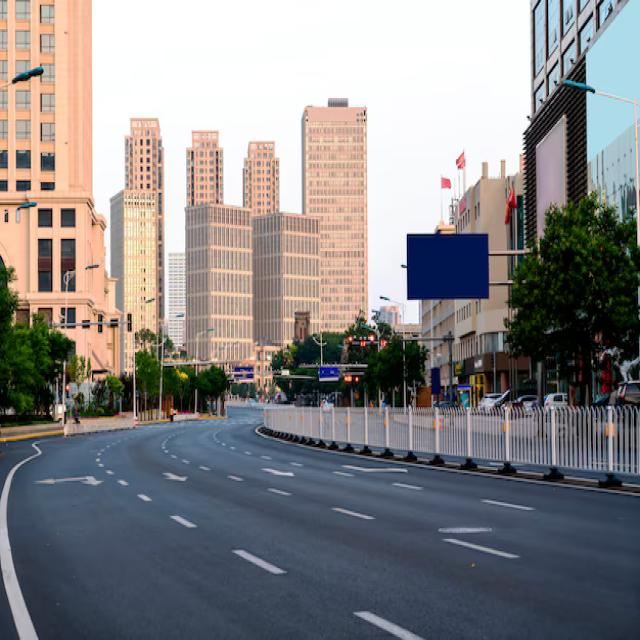Billboard_small: (403, 220, 498, 334), (234, 350, 264, 390), (319, 345, 344, 388)
Roadcorner: (0, 434, 52, 638)
Roadlane: (84, 432, 433, 638), (156, 432, 543, 597), (332, 458, 527, 522)
